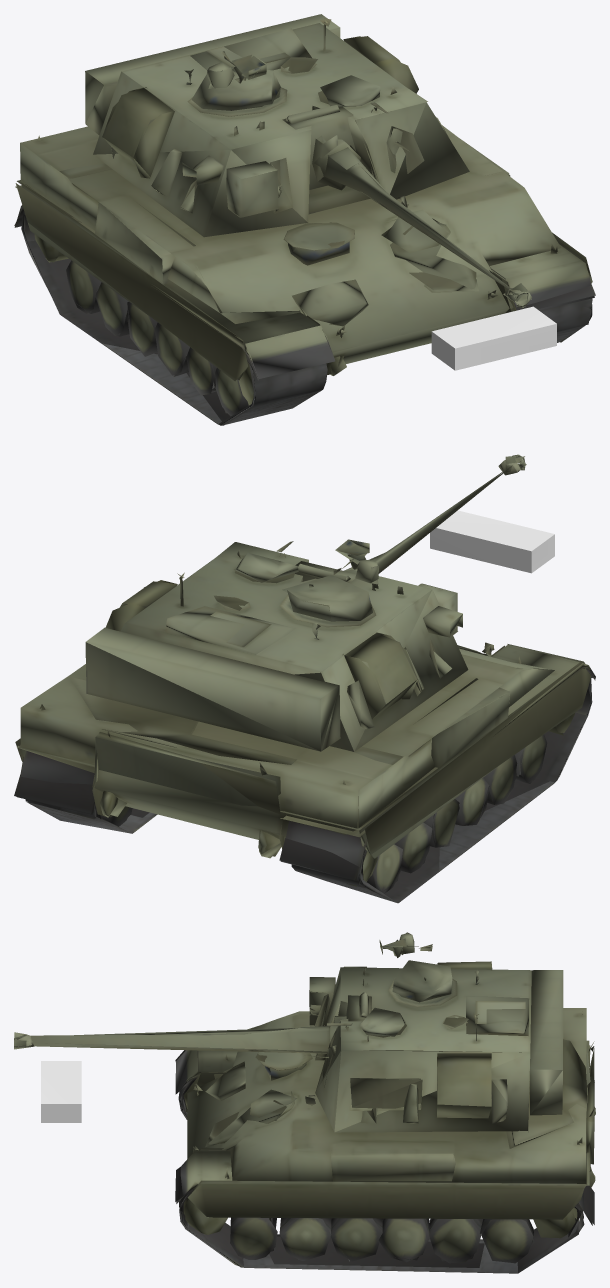
The model's file is us-paladin.glb.
3 renders of one model, top to bottom at view 1: azimuth 30°, elevation 25°; view 2: azimuth 150°, elevation 25°; view 3: azimuth 270°, elevation 25°, orthographic. The views are drawn at different scales.
Visible parts, largest first — view 1: us-paladin, turret; view 2: us-paladin, turret; view 3: us-paladin, turret.
Part boxes in pixels (bbox=[...]): us-paladin: bbox=[14, 63, 595, 425]; turret: bbox=[85, 14, 532, 307]; us-paladin: bbox=[14, 468, 595, 903]; turret: bbox=[86, 454, 526, 751]; us-paladin: bbox=[35, 994, 595, 1273]; turret: bbox=[14, 932, 563, 1131].
Size of the model in its own units: 0.645 by 0.4863 by 1.08.
2 materials, 1 textured.
